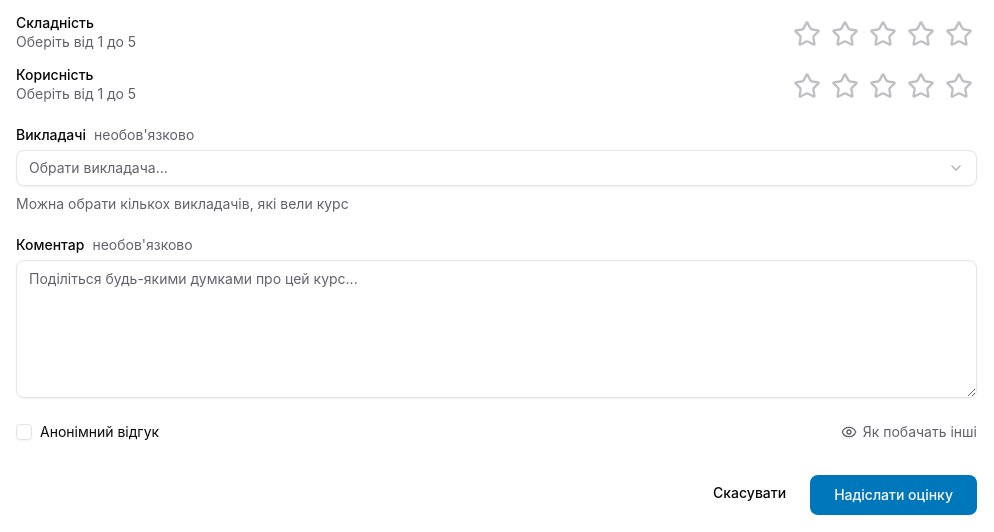
RatingForm › score inputs › keeps the announced meaning in sync when the score changes
The image size is (994, 532).
Click the radio button named "4 з 5" in the row of "Складність": (921, 34) [903,16,939,52]
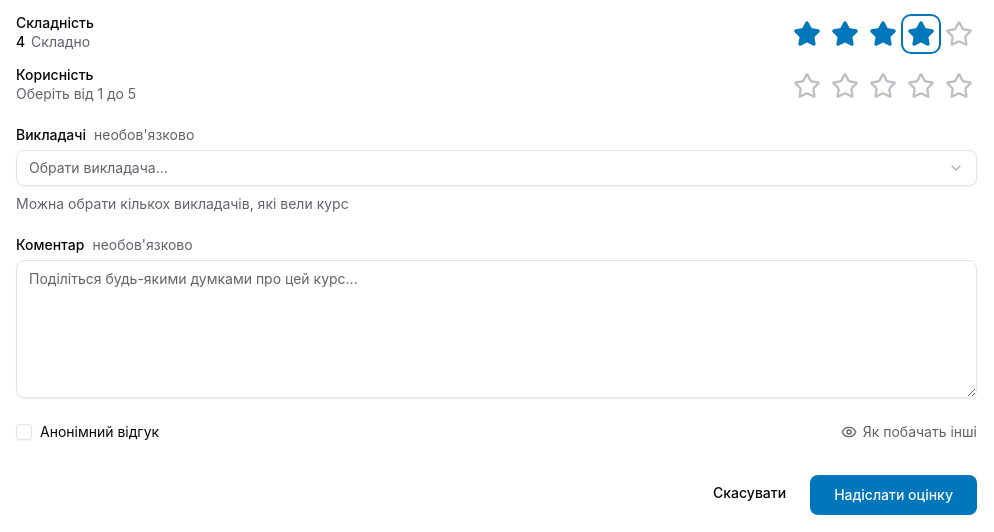
Expected: the text "Складно" is shown, [31,32,90,52]
